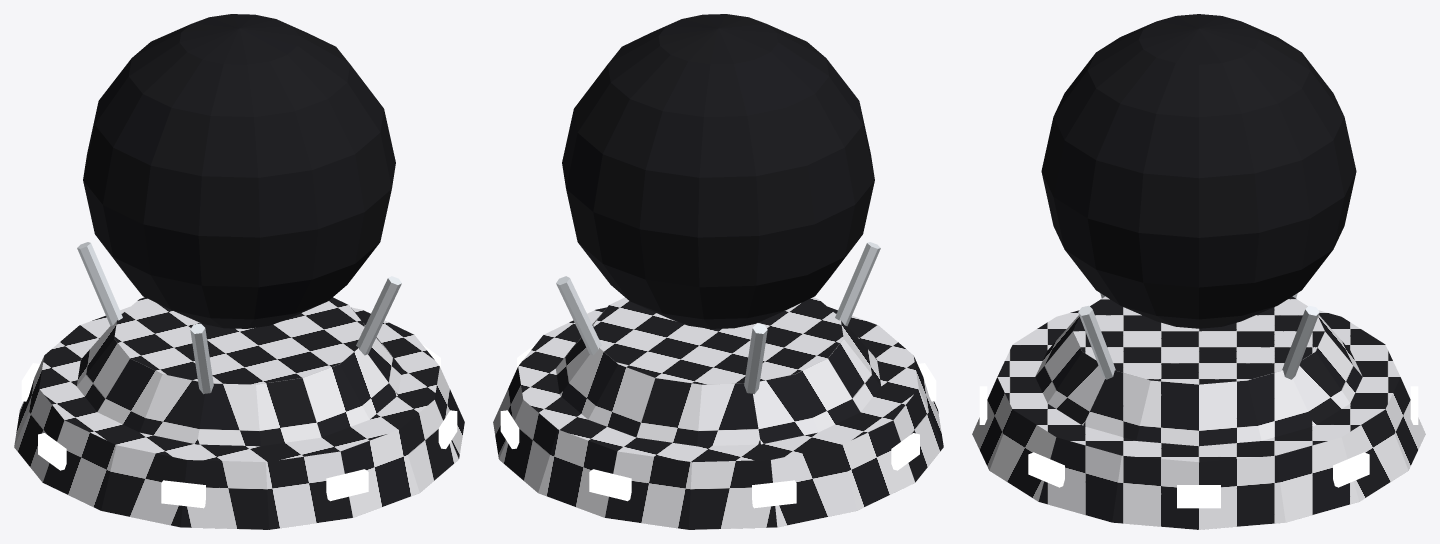
Rendered from Sphere_Trou_Noir.fbx.
3 renders of one model, left to right at view 1: azimuth 30°, elevation 25°; view 2: azimuth 150°, elevation 25°; view 3: azimuth 270°, elevation 25°, orthographic.
Parts seen in each view (by area): view 1: Sphere_Trou_Noir; view 2: Sphere_Trou_Noir; view 3: Sphere_Trou_Noir.
Boxes of the visible parts, x1=… form: Sphere_Trou_Noir: x1=14, y1=14, x2=464, y2=529; Sphere_Trou_Noir: x1=493, y1=14, x2=943, y2=529; Sphere_Trou_Noir: x1=972, y1=14, x2=1425, y2=529.
Size of what is drawn, in the model's own units: 720 by 710 by 720.
Materials: 4 (1 with a texture image).
